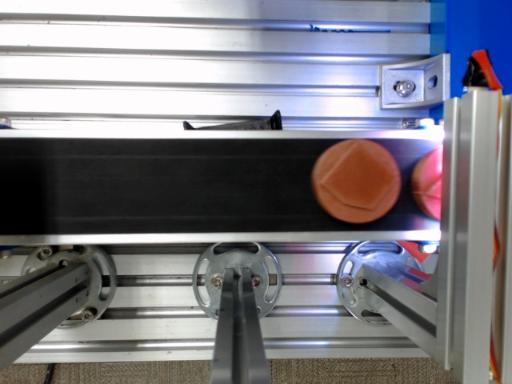Brown_Waper: (312, 140, 400, 223), (412, 146, 442, 220)
